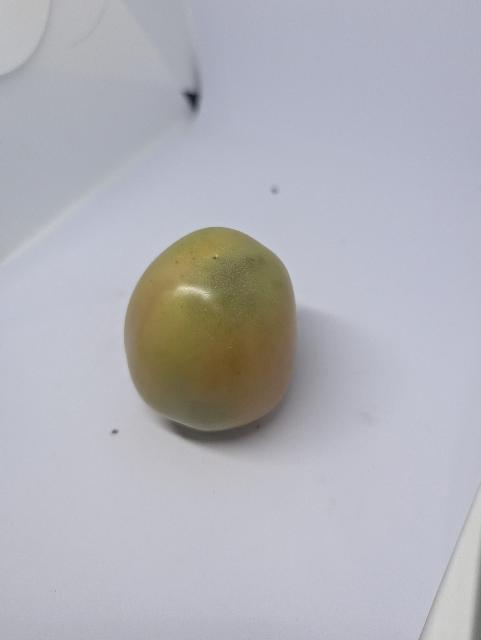breaker: (125, 227, 297, 432)
